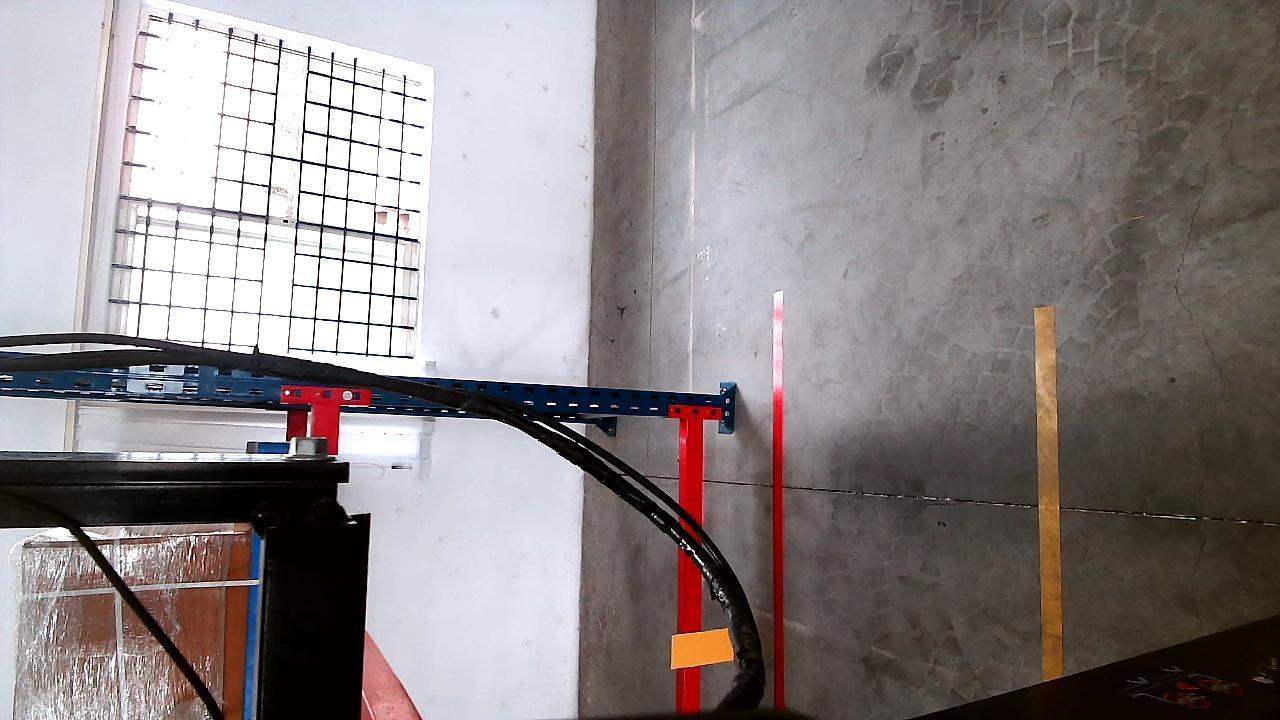h_rack: (676, 411, 707, 715)
orange_strip: (673, 629, 736, 667)
red_line: (767, 331, 790, 702)
yellow_line: (1035, 300, 1066, 685)
